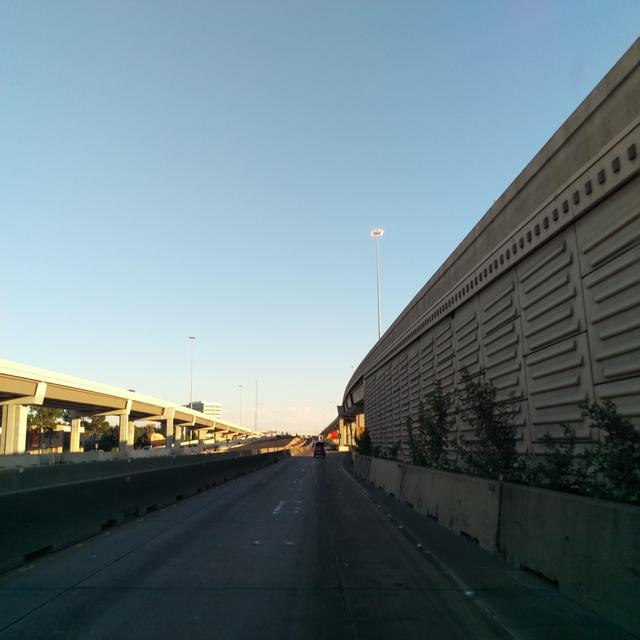Barrier: (352, 448, 639, 639), (0, 434, 313, 574)
Billboard: (31, 430, 39, 446)
Car: (313, 441, 325, 457)
Vegetation: (351, 365, 639, 504), (25, 406, 118, 451)
